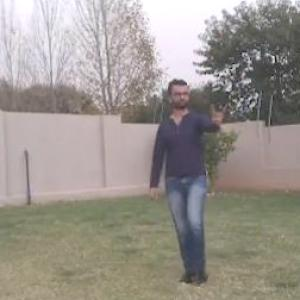takeoff-hand: (206, 97, 233, 132)
